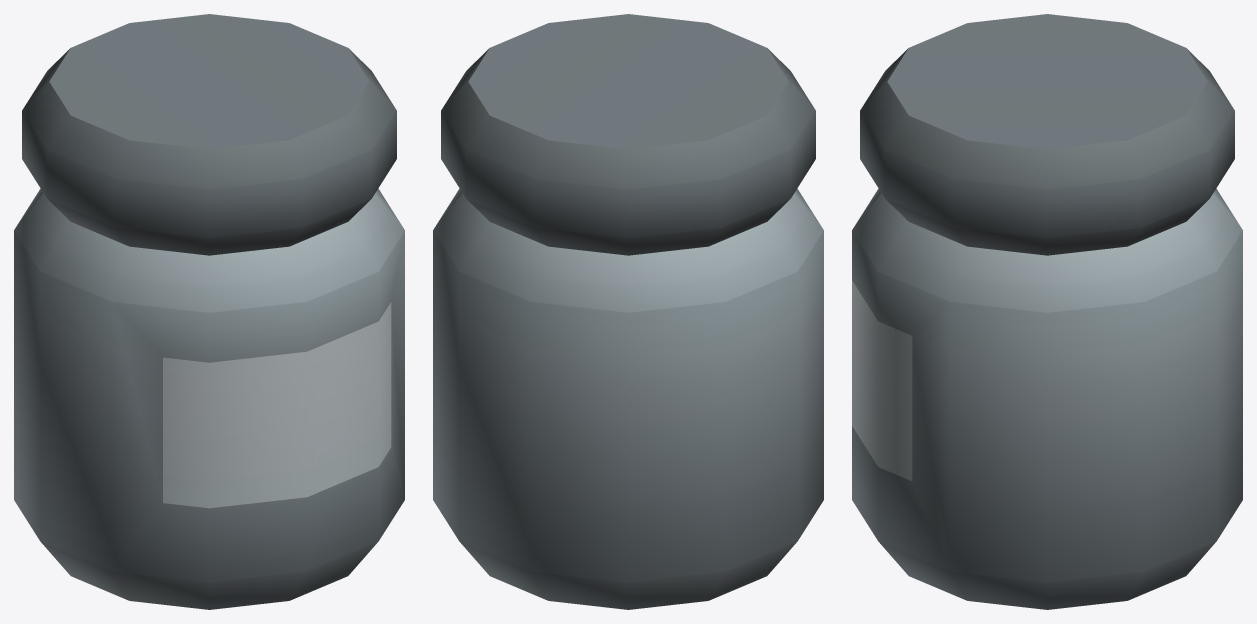
The model's file is jar-b-medium.glb.
3 renders of one model, left to right at view 1: azimuth 30°, elevation 25°; view 2: azimuth 150°, elevation 25°; view 3: azimuth 270°, elevation 25°, orthographic.
Visible parts, largest first — view 1: jar_B_medium; view 2: jar_B_medium; view 3: jar_B_medium.
Boxes of the visible parts, x1,y1,x2,y2 form: jar_B_medium: [14, 14, 404, 609]; jar_B_medium: [433, 14, 823, 609]; jar_B_medium: [852, 14, 1242, 609].
Size of the model in its own units: 0.5 by 0.65 by 0.5.
1 material, 1 textured.
